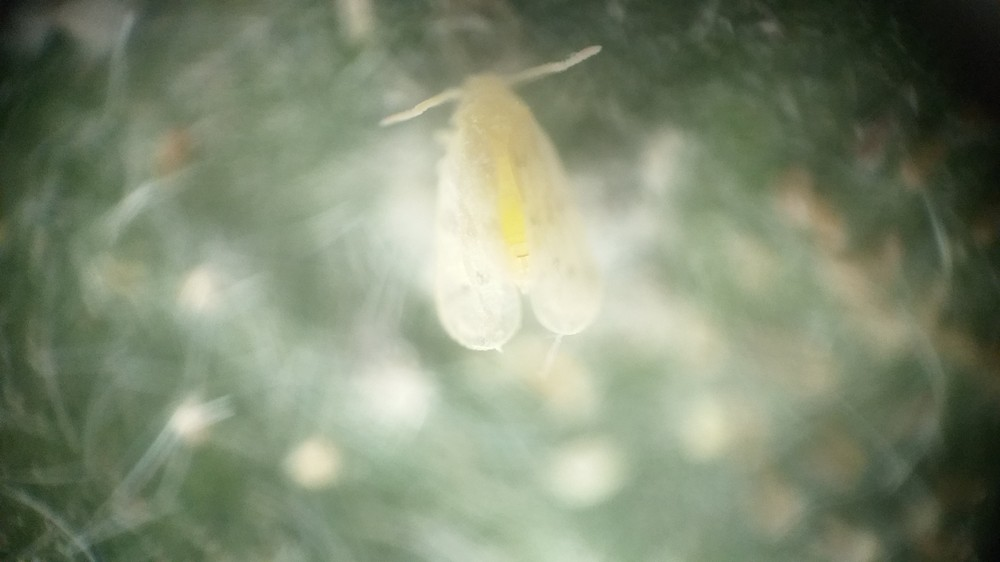Mosca Blanca: (365, 45, 675, 358)
